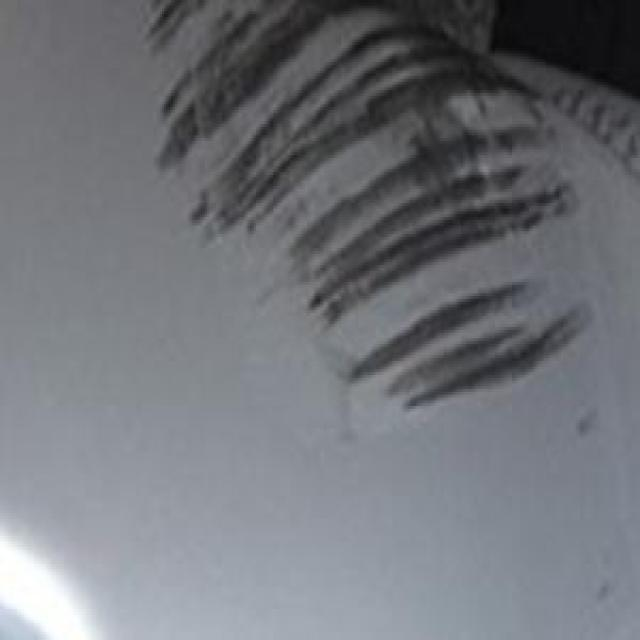scratch: (123, 1, 640, 412)
